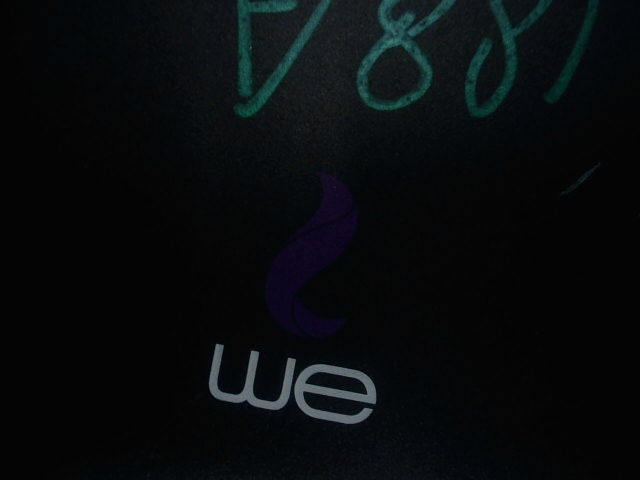AT_We: (208, 170, 401, 424)
